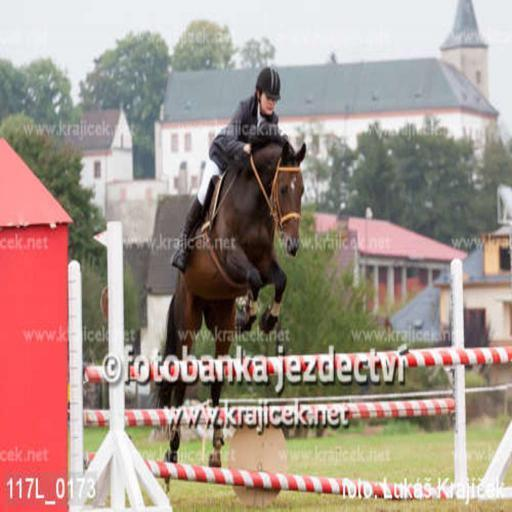horse: (150, 126, 308, 489)
